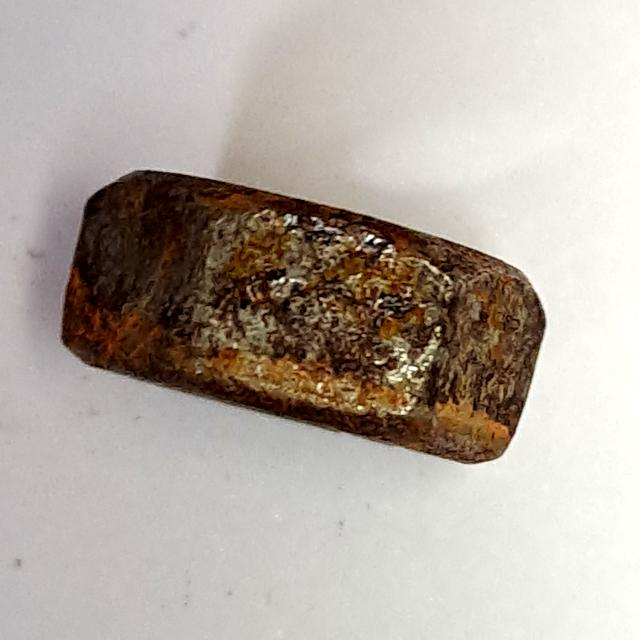Side_Rust: (51, 153, 561, 483)
